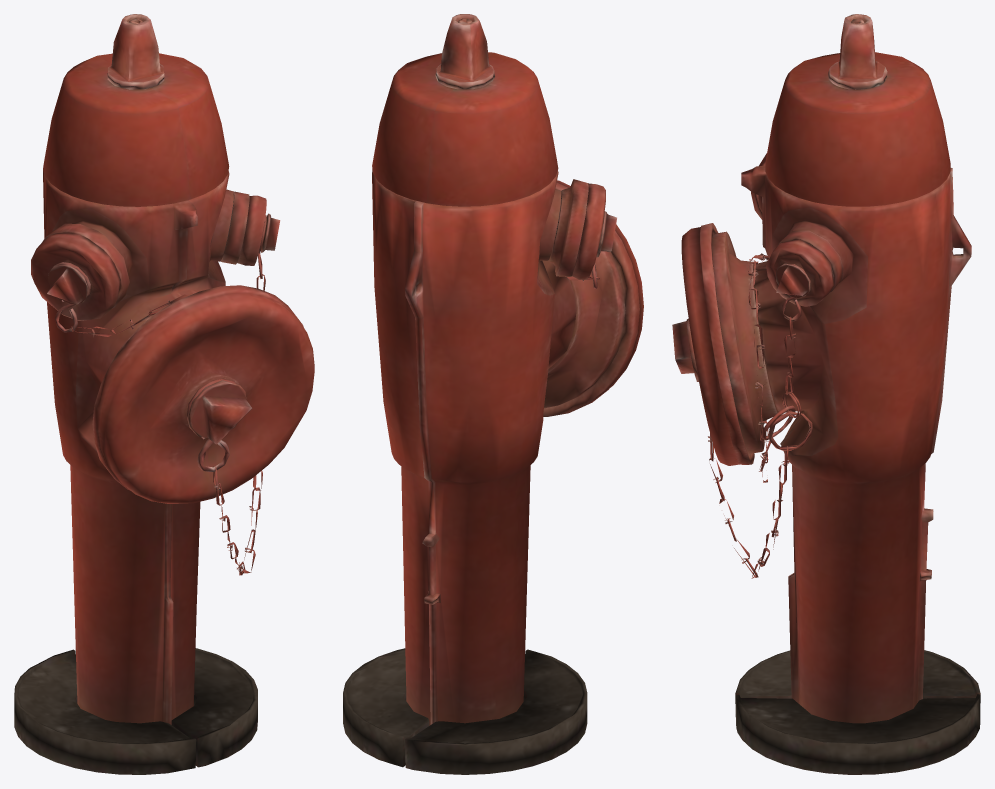
Rendered from hydrant.glb.
The picture shows the model from 3 angles, left to right: view 1: azimuth 30°, elevation 25°; view 2: azimuth 150°, elevation 25°; view 3: azimuth 270°, elevation 25°; orthographic projection.
Parts seen in each view (by area): view 1: fire_hydrant; view 2: fire_hydrant; view 3: fire_hydrant.
Boxes of the visible parts, x1=… form: fire_hydrant: x1=14, y1=14, x2=314, y2=774; fire_hydrant: x1=343, y1=14, x2=643, y2=774; fire_hydrant: x1=672, y1=14, x2=980, y2=774.
Size of the model in its own units: 0.2745 by 0.7994 by 0.3173.
Materials: 1 (1 with a texture image).
